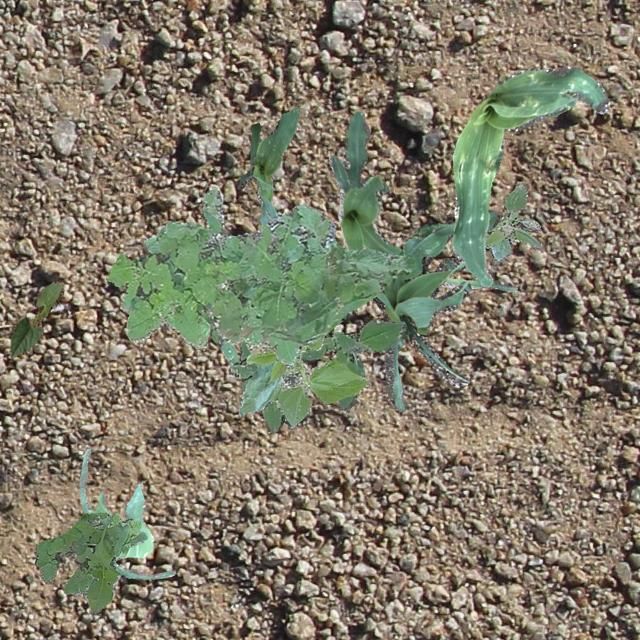crop: (451, 66, 608, 286), (328, 110, 516, 290), (372, 208, 498, 410), (78, 448, 174, 578), (238, 336, 370, 426), (236, 108, 298, 224), (8, 280, 62, 356)
weed: (104, 186, 413, 364), (228, 316, 406, 434), (34, 512, 146, 614), (484, 182, 540, 260), (198, 310, 238, 364)
